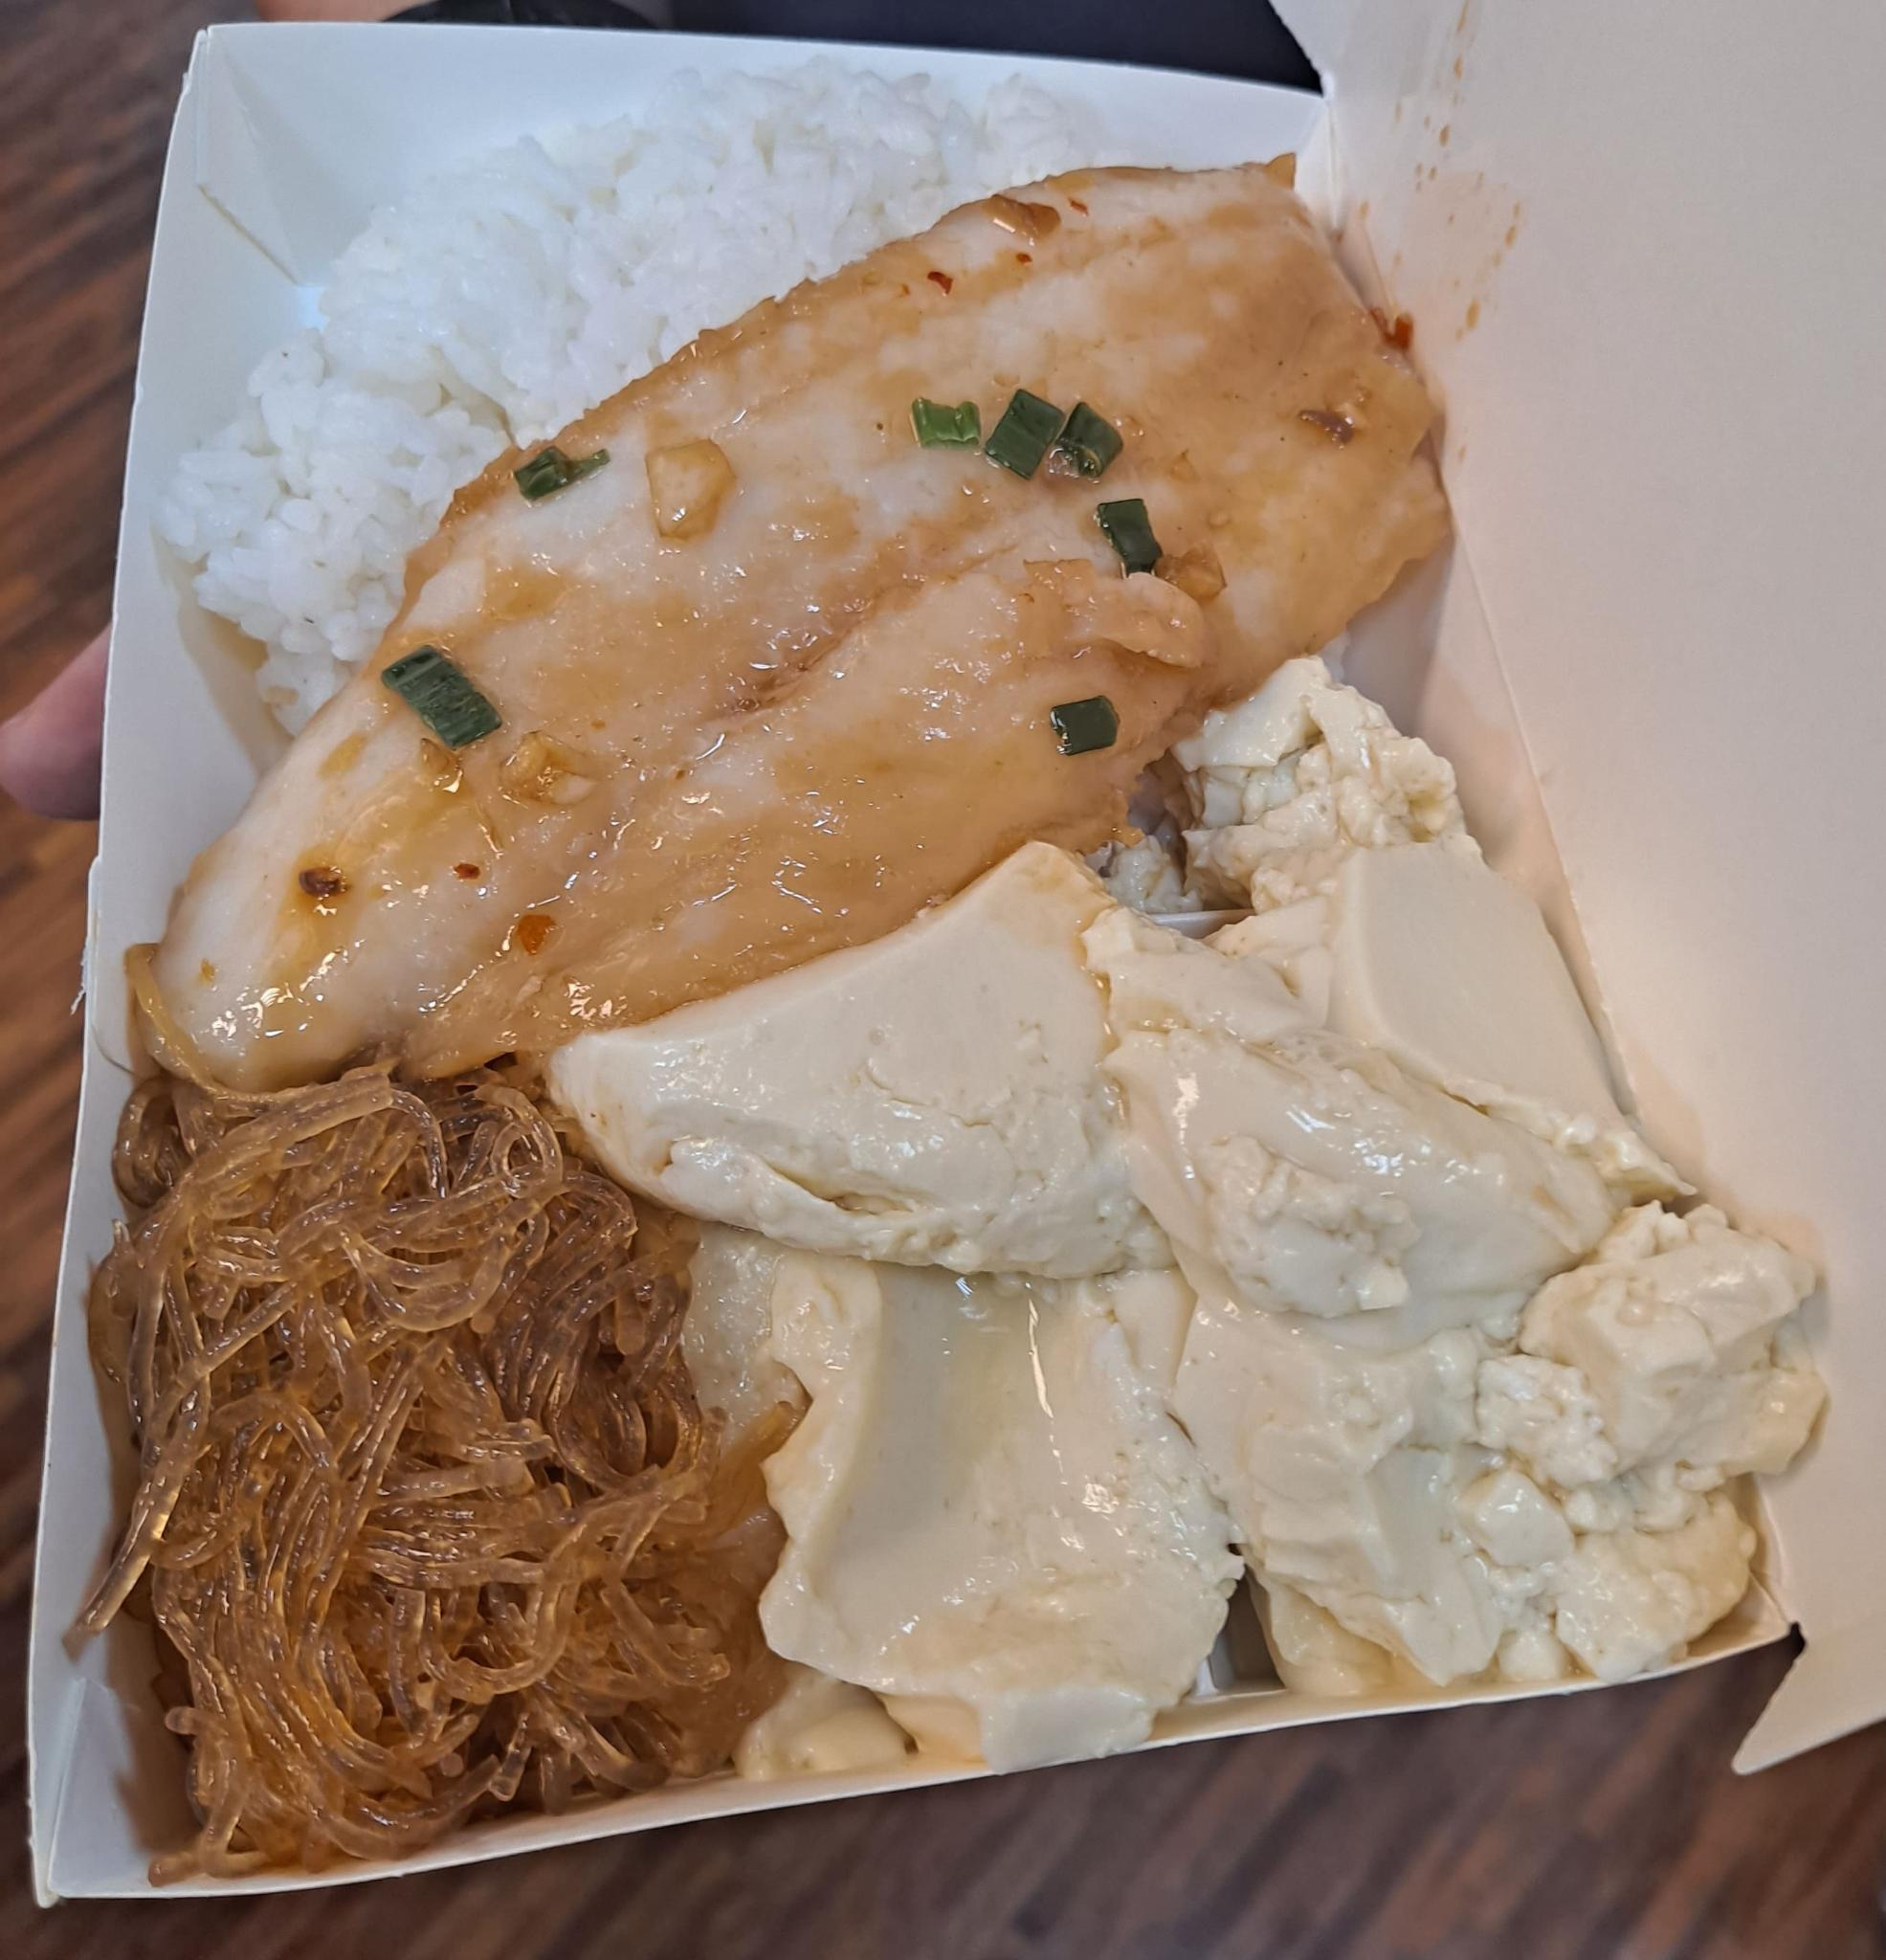big grilled chicken leg: (17, 0, 1785, 1937)
big herbal chicken leg: (201, 66, 1162, 745)
braised fish fillet: (576, 828, 1816, 1764), (93, 1060, 752, 1865)
braised pork ribs: (126, 142, 1473, 1104)
